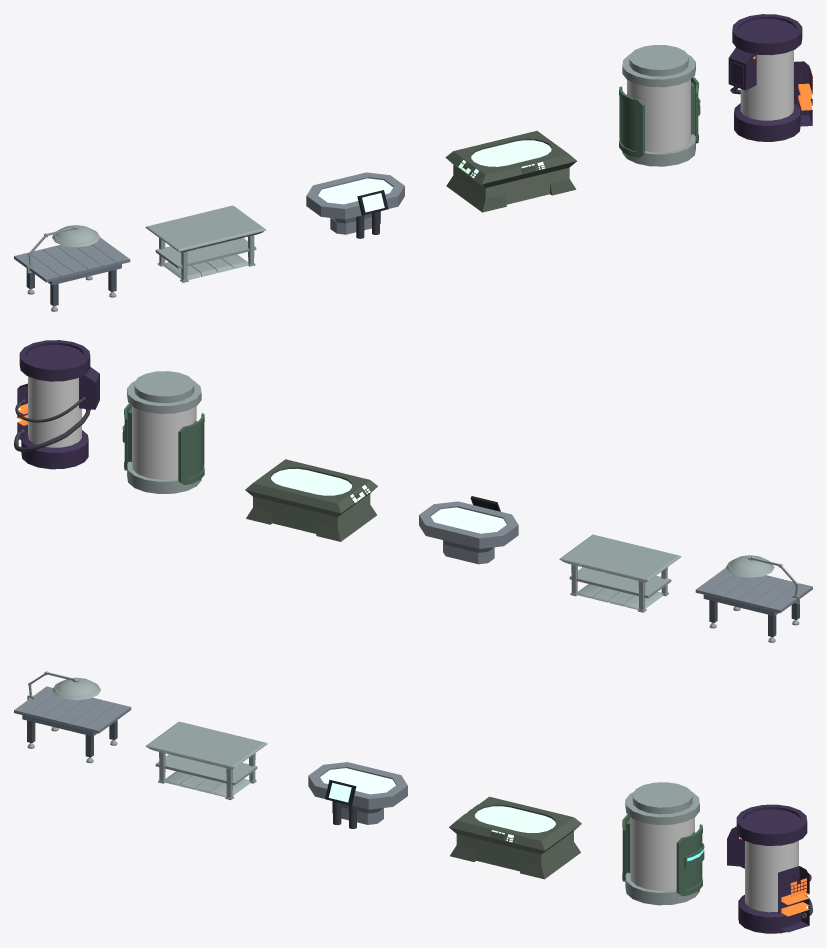
File: props_-8.fbx
The picture shows the model from 3 angles, top to bottom: view 1: azimuth 30°, elevation 25°; view 2: azimuth 150°, elevation 25°; view 3: azimuth 330°, elevation 25°; orthographic projection.
Parts seen in each view (by area): view 1: стол2, стол, стекло, столешница2.2, стекло1.2, столешница2, верняя часть, верхняя часть1.2, нижняя часть1.1, шиток1, пдставка2, ящик справа (+6 smaller); view 2: стол2, стол, стекло, стекло1.2, столешница2.2, столешница2, верняя часть, верхняя часть1.2, шиток1, нижняя часть1.1, пдставка2, пдставка1 (+5 smaller); view 3: стол2, стол, стекло, столешница2.2, столешница2, стекло1.2, верняя часть, верхняя часть1.2, щиток2, ящик справа, пдставка2, нижняя часть1.1 (+8 smaller).
Part boxes in pixels (box(x1,y1,x2,y2)): стол2: box(445, 131, 576, 212); стол: box(306, 172, 404, 234); стекло: box(627, 79, 690, 152); столешница2.2: box(145, 205, 266, 251); стекло1.2: box(740, 50, 793, 120); столешница2: box(14, 237, 130, 282); верняя часть: box(622, 45, 695, 87); верхняя часть1.2: box(732, 14, 802, 55); нижняя часть1.1: box(734, 103, 800, 141); шиток1: box(619, 86, 644, 157); пдставка2: box(155, 238, 256, 268); ящик справа: box(794, 61, 812, 126); стол2: box(245, 459, 377, 541); стол: box(419, 501, 518, 564); стекло: box(132, 406, 196, 479); стекло1.2: box(28, 376, 81, 447); столешница2.2: box(559, 534, 681, 581); столешница2: box(695, 568, 812, 613); верняя часть: box(127, 371, 201, 413); верхняя часть1.2: box(19, 340, 90, 381); шиток1: box(178, 413, 204, 484); нижняя часть1.1: box(21, 430, 88, 469); пдставка2: box(569, 567, 671, 598); пдставка1: box(577, 584, 663, 609); стол2: box(449, 796, 581, 879); стол: box(308, 762, 407, 824); стекло: box(630, 817, 694, 890); столешница2.2: box(145, 721, 267, 768); столешница2: box(14, 686, 131, 733); стекло1.2: box(745, 840, 798, 912); верняя часть: box(625, 782, 699, 824); верхняя часть1.2: box(736, 804, 807, 845); щиток2: box(676, 824, 704, 895); ящик справа: box(778, 866, 809, 932); пдставка2: box(155, 754, 257, 785); нижняя часть1.1: box(738, 895, 801, 933).
Size of the model in its own units: 2780 by 341 by 241.
